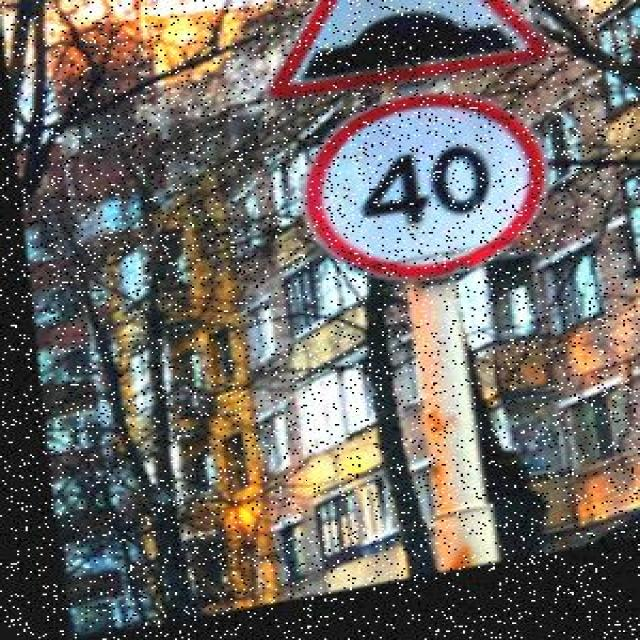speed limit 40: (306, 96, 542, 279)
